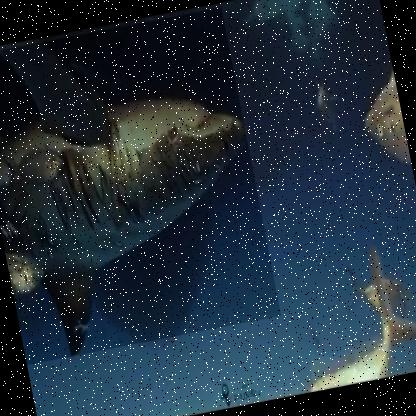white-shark: (0, 5, 282, 365)
